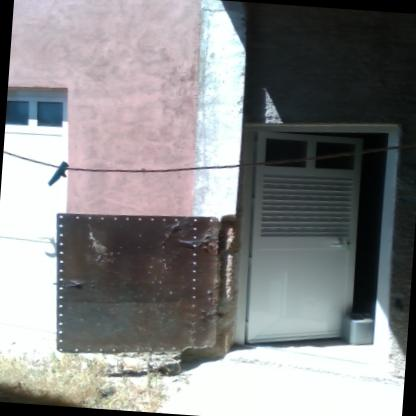semi: (218, 109, 412, 384)
